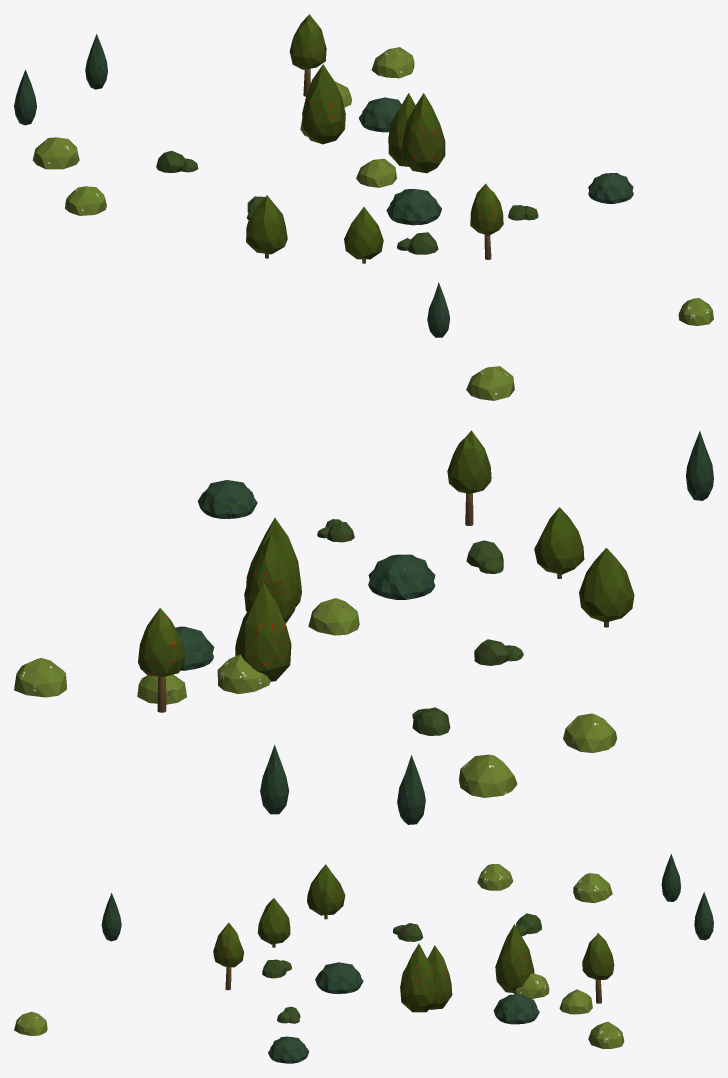
Rendered from Bushes9.gltf.
The picture shows the model from 3 angles, top to bottom: view 1: azimuth 30°, elevation 25°; view 2: azimuth 150°, elevation 25°; view 3: azimuth 270°, elevation 25°; orthographic projection. The views are drawn at different scales.
Visible parts, largest first — view 1: Hollytree3 - copy.020, Hollytree3 - copy.008, Hollytree2 - copy.005, Hollytree1 - copy.010, JuniperBush1 - copy.023, Hollytree2 - copy.014, Hollytree1 - copy.008, ElderberryBush1 - copy.010, JuniperBush1 - copy.018, JuniperBush1 - copy.016, ElderberryBush1 - copy.011, ElderberryBush1 - copy.005 (+8 smaller); view 2: Hollytree3 - copy.020, Hollytree2 - copy.005, Hollytree1 - copy.010, JuniperBush1 - copy.023, Hollytree3 - copy.026, Hollytree2 - copy.014, Hollytree1 - copy.008, ElderberryBush1 - copy.010, JuniperBush1 - copy.018, ElderberryBush1 - copy.011, ElderberryBush1 - copy.005, ElderberryBush2 - copy.020 (+11 smaller); view 3: Hollytree3 - copy.008, Hollytree3 - copy.020, Hollytree2 - copy.005, Hollytree1 - copy.010, JuniperBush1 - copy.023, Hollytree1 - copy.008, Hollytree2 - copy.014, JuniperBush1 - copy.016, Hollytree3 - copy.026, ElderberryBush1 - copy.010, JuniperBush1 - copy.018, ElderberryBush1 - copy.011 (+10 smaller).
Part boxes in pixels (x1,y1,x2,y2): Hollytree3 - copy.020: (302, 64, 345, 144); Hollytree3 - copy.008: (402, 93, 445, 173); Hollytree2 - copy.005: (246, 195, 287, 258); Hollytree1 - copy.010: (289, 14, 326, 96); JuniperBush1 - copy.023: (386, 189, 441, 225); Hollytree2 - copy.014: (344, 207, 383, 263); Hollytree1 - copy.008: (470, 183, 503, 259); ElderberryBush1 - copy.010: (32, 137, 79, 169); JuniperBush1 - copy.018: (588, 173, 633, 203); JuniperBush1 - copy.016: (359, 97, 401, 132); ElderberryBush1 - copy.011: (371, 47, 414, 78); ElderberryBush1 - copy.005: (65, 186, 106, 215); Hollytree3 - copy.020: (235, 582, 291, 681); Hollytree2 - copy.005: (579, 548, 634, 627); Hollytree1 - copy.010: (138, 608, 184, 712); JuniperBush1 - copy.023: (368, 554, 435, 599); Hollytree3 - copy.026: (244, 534, 296, 623); Hollytree2 - copy.014: (534, 507, 584, 578); Hollytree1 - copy.008: (447, 430, 491, 525); ElderberryBush1 - copy.010: (459, 754, 517, 797); JuniperBush1 - copy.018: (198, 480, 257, 518); ElderberryBush1 - copy.011: (14, 658, 66, 697); ElderberryBush1 - copy.005: (563, 713, 616, 752); ElderberryBush2 - copy.020: (308, 598, 359, 635); Hollytree3 - copy.008: (400, 943, 435, 1012); Hollytree3 - copy.020: (495, 924, 534, 992); Hollytree2 - copy.005: (307, 864, 345, 919); Hollytree1 - copy.010: (582, 933, 614, 1003); JuniperBush1 - copy.023: (315, 962, 363, 993); Hollytree1 - copy.008: (213, 922, 243, 990); Hollytree2 - copy.014: (257, 898, 290, 947); JuniperBush1 - copy.016: (493, 994, 539, 1024); Hollytree3 - copy.026: (427, 945, 452, 1009); ElderberryBush1 - copy.010: (573, 873, 612, 903); JuniperBush1 - copy.018: (268, 1036, 309, 1063); ElderberryBush1 - copy.011: (588, 1021, 624, 1048).
Bounding box in the file's own units: 25.55 × 4.54 × 39.99.
10 materials, 10 textured.
